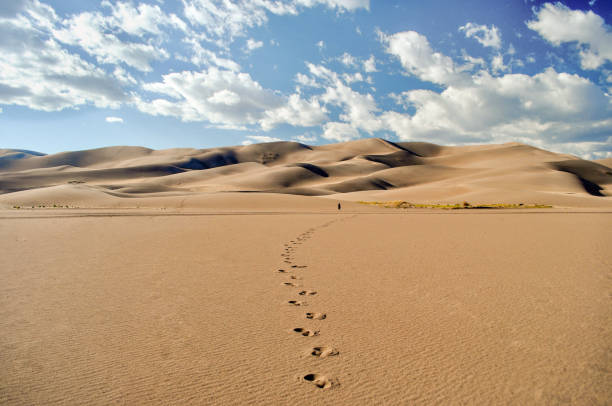human_foot_print: (302, 373, 337, 388), (309, 346, 338, 357), (292, 327, 318, 336), (306, 312, 326, 319), (287, 300, 306, 305), (298, 290, 316, 295)
